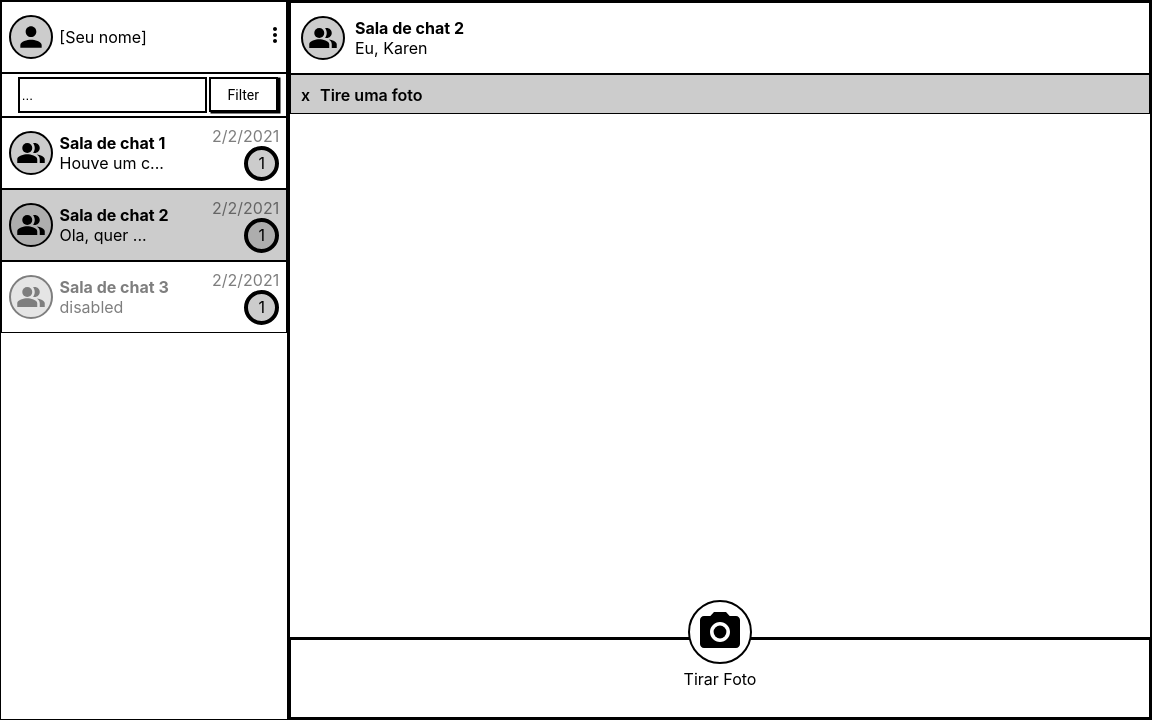
Test take picture with cam and upload Interaction › Canceling taking › get takePictureWIthCamContainer click on cancel button and get defaultActionBar in the screen
Expected: the element with test id "takePictureWithCamContainer" is shown, [290, 74, 1150, 114]
Click the text with test id "takePictureWithCamClose" at (306, 95), box [301, 85, 310, 105]
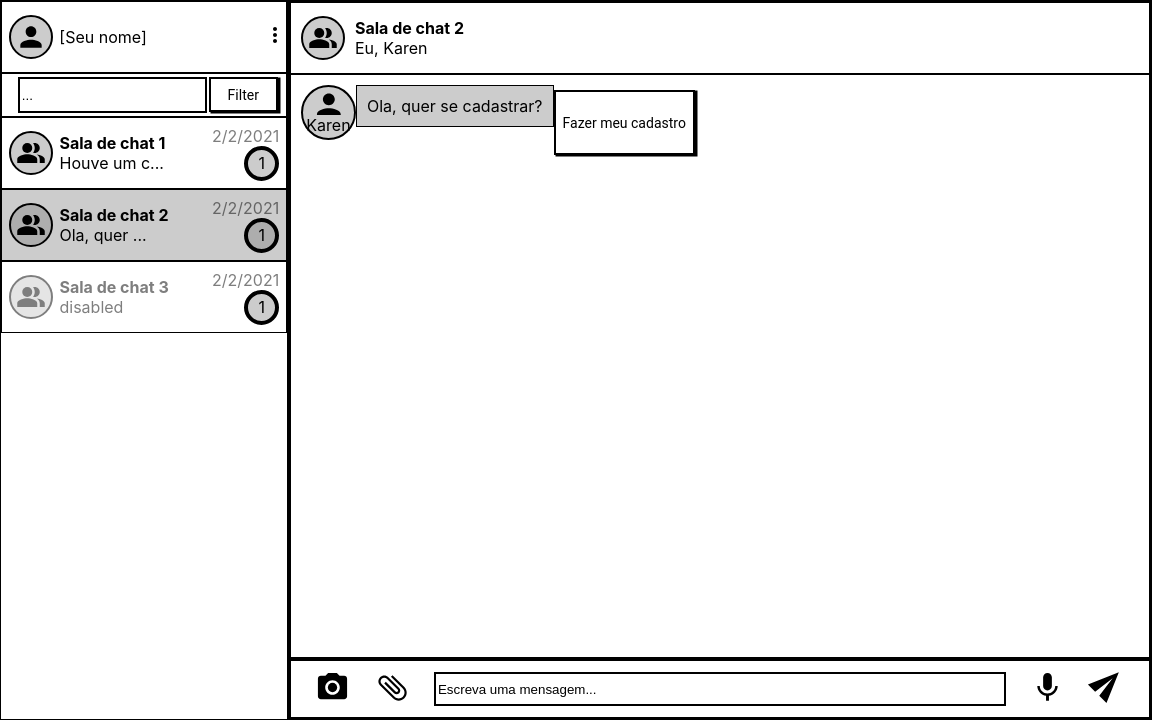
Expected: the element with test id "ActiveChatSessionBodyMessages" is shown
Expected: the element with test id "DefaultActionBar" is shown, [291, 661, 1149, 717]
